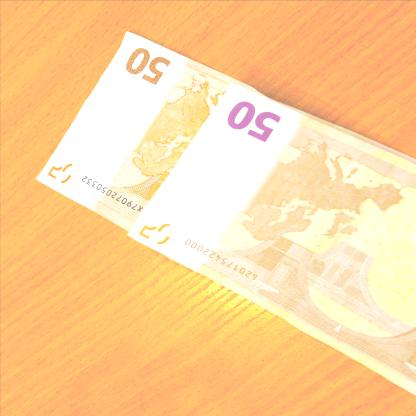euro_banknote: (165, 101, 382, 302), (58, 62, 251, 218)
